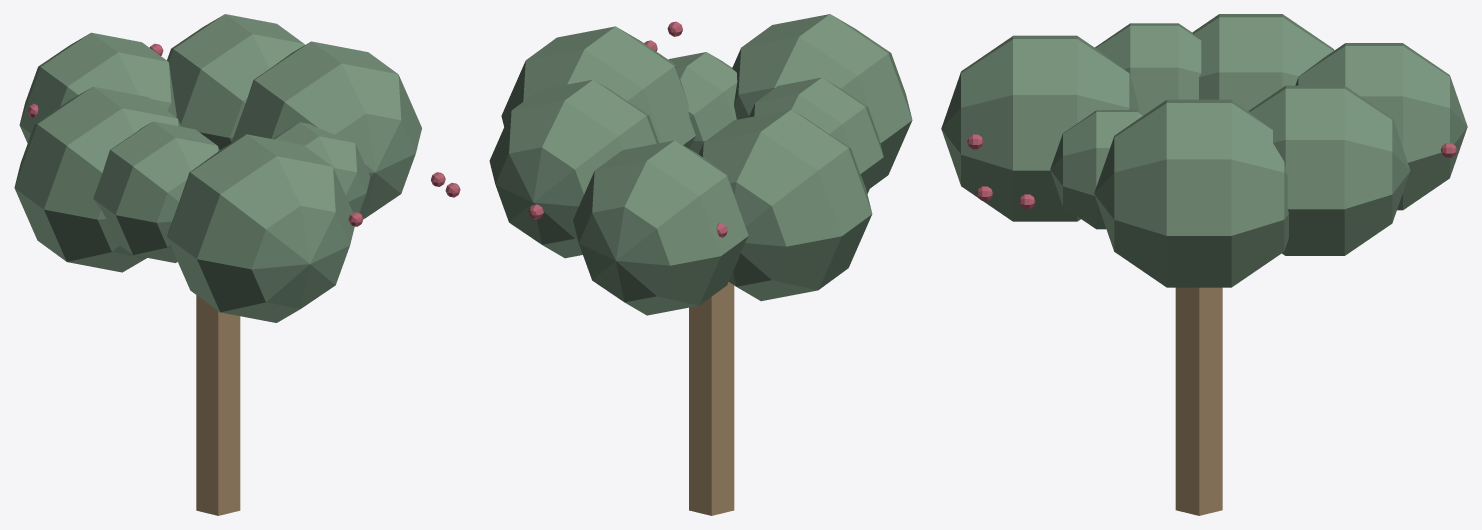
The model's file is mdl_vegetation_tree_flamboyan_001_lod1.glb.
The picture shows the model from 3 angles, left to right: view 1: azimuth 30°, elevation 25°; view 2: azimuth 150°, elevation 25°; view 3: azimuth 270°, elevation 25°; orthographic projection. The views are drawn at different scales.
Parts seen in each view (by area): view 1: m_manigua, m_madera, m_carmesi; view 2: m_manigua, m_madera, m_carmesi; view 3: m_manigua, m_madera, m_carmesi.
Boxes of the visible parts, x1=… form: m_manigua: x1=14, y1=14, x2=421, y2=322; m_madera: x1=196, y1=295, x2=240, y2=515; m_carmesi: x1=27, y1=43, x2=460, y2=226; m_manigua: x1=489, y1=14, x2=912, y2=315; m_madera: x1=689, y1=282, x2=734, y2=515; m_carmesi: x1=528, y1=21, x2=727, y2=237; m_manigua: x1=941, y1=14, x2=1467, y2=287; m_madera: x1=1175, y1=287, x2=1222, y2=515; m_carmesi: x1=967, y1=134, x2=1457, y2=208.
Size of the model in its own units: 4.78 by 5.51 by 5.74.
